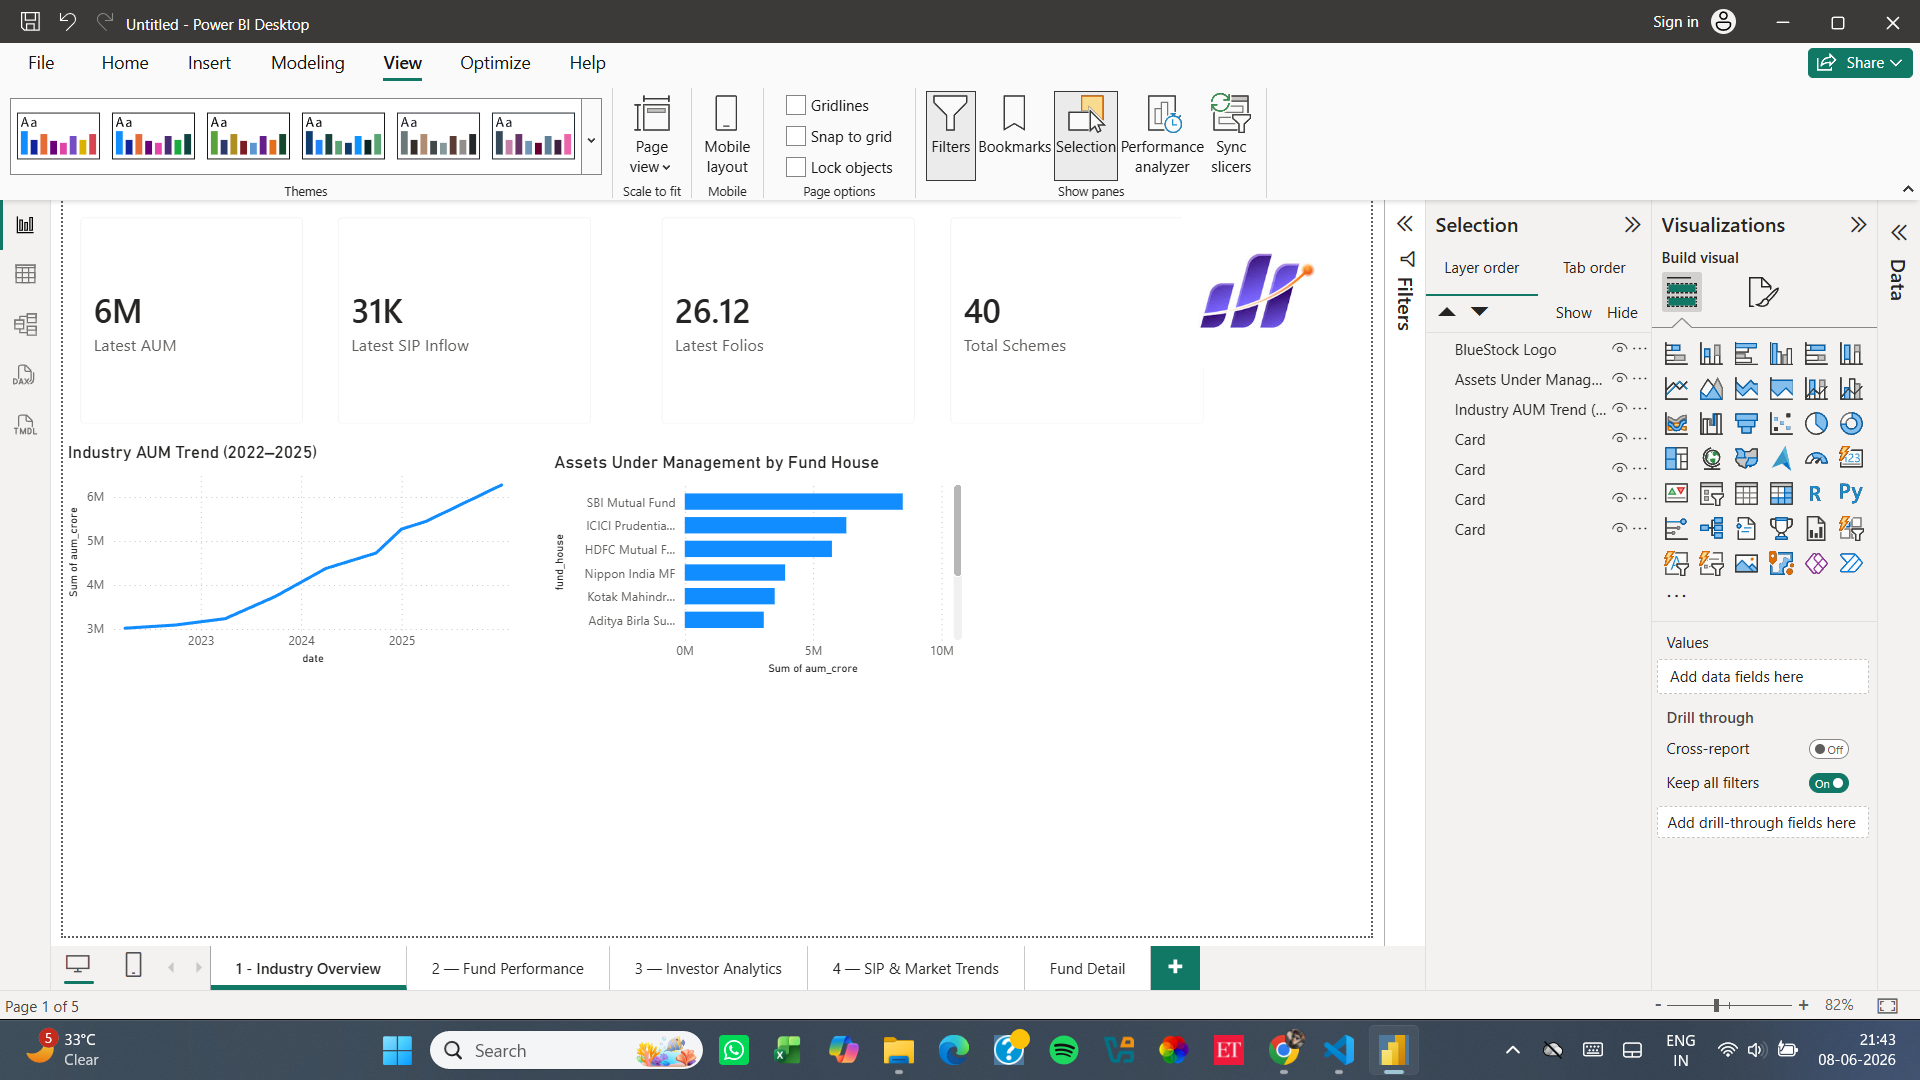

The dashboard page shown, as its layout file describes it:
{"tool":"powerbi","page":{"name":"1 - Industry Overview","canvas":[1280,720],"ordinal":0},"visuals":[{"type":"cardVisual","fields":{"Data":["03_aum_by_fund_house_clean.Latest AUM"]},"box":[0,0,252.5,236],"z":0},{"type":"cardVisual","fields":{"Data":["03_aum_by_fund_house_clean.Latest SIP Inflow"]},"box":[252.5,0,282.7,236],"z":1000},{"type":"cardVisual","fields":{"Data":["03_aum_by_fund_house_clean.Latest Folios"]},"box":[568.1,0,282.7,236],"z":2000},{"type":"cardVisual","fields":{"Data":["01_fund_master_clean.Total Schemes"]},"box":[850.8,0,282.7,236],"z":3000},{"type":"lineChart","title":"Industry AUM Trend (2022–2025)","fields":{"Category":["03_aum_by_fund_house_clean.date"],"Y":["Sum(03_aum_by_fund_house_clean.aum_crore)"]},"box":[0,236,447.3,223.7],"z":4000},{"type":"clusteredBarChart","title":"Assets Under Management by Fund House","fields":{"Category":["03_aum_by_fund_house_clean.fund_house"],"Y":["Sum(03_aum_by_fund_house_clean.aum_crore)"]},"box":[476.2,245.6,408.9,223.7],"z":5000},{"type":"image","title":"BlueStock Logo","box":[1094.4,11,146.7,156.5],"z":5001}]}

Visuals, with their boxes on the page's 1280x720 design canvas (x1, y1, x2, y2). These are canvas units, not pixel positions in the 1920x1080 screenshot, which may show the page scaled, cropped or inside an application window:
cardVisual - 03_aum_by_fund_house_clean.Latest AUM: region(0, 0, 252, 236)
cardVisual - 03_aum_by_fund_house_clean.Latest SIP Inflow: region(252, 0, 535, 236)
cardVisual - 03_aum_by_fund_house_clean.Latest Folios: region(568, 0, 851, 236)
cardVisual - 01_fund_master_clean.Total Schemes: region(851, 0, 1134, 236)
"Industry AUM Trend (2022–2025)" lineChart: region(0, 236, 447, 460)
"Assets Under Management by Fund House" clusteredBarChart: region(476, 246, 885, 469)
"BlueStock Logo" image: region(1094, 11, 1241, 168)
